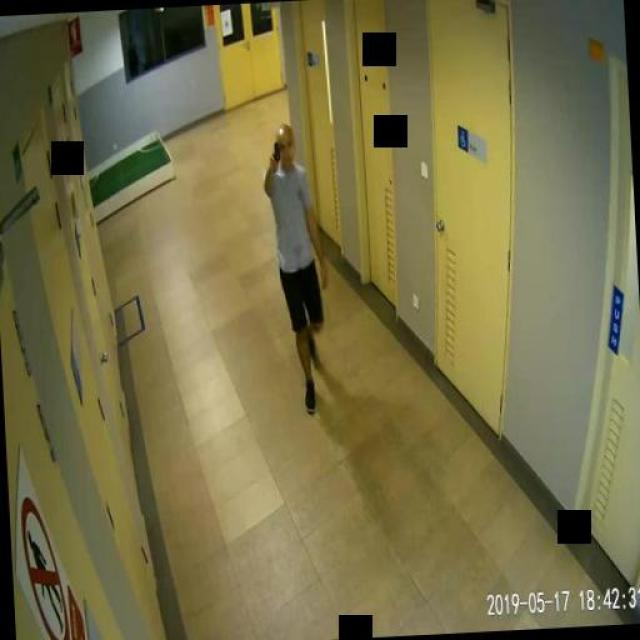gun: (268, 135, 286, 171)
